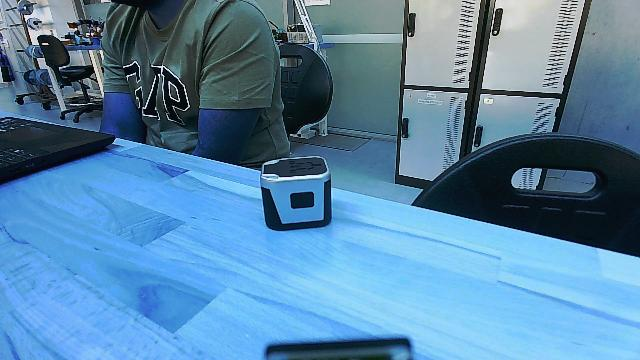adapter: (246, 157, 340, 232)
